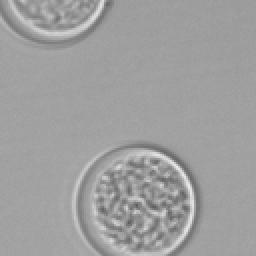picoshell: (74, 144, 196, 256)
